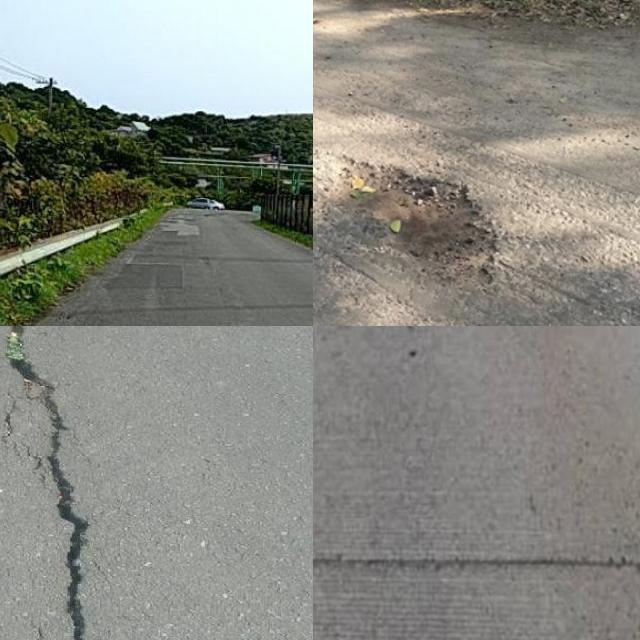Lubang: (333, 157, 488, 275)
Melintang: (313, 542, 640, 589)
Memanjang: (0, 326, 95, 640)
